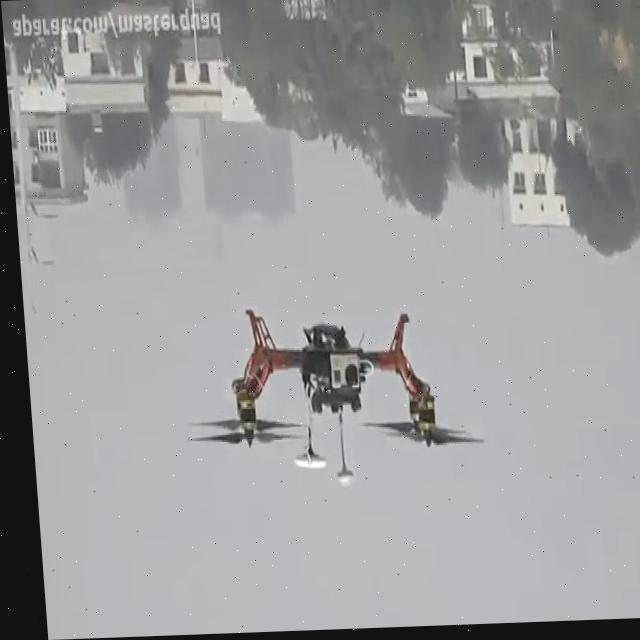drone: (166, 300, 481, 494)
